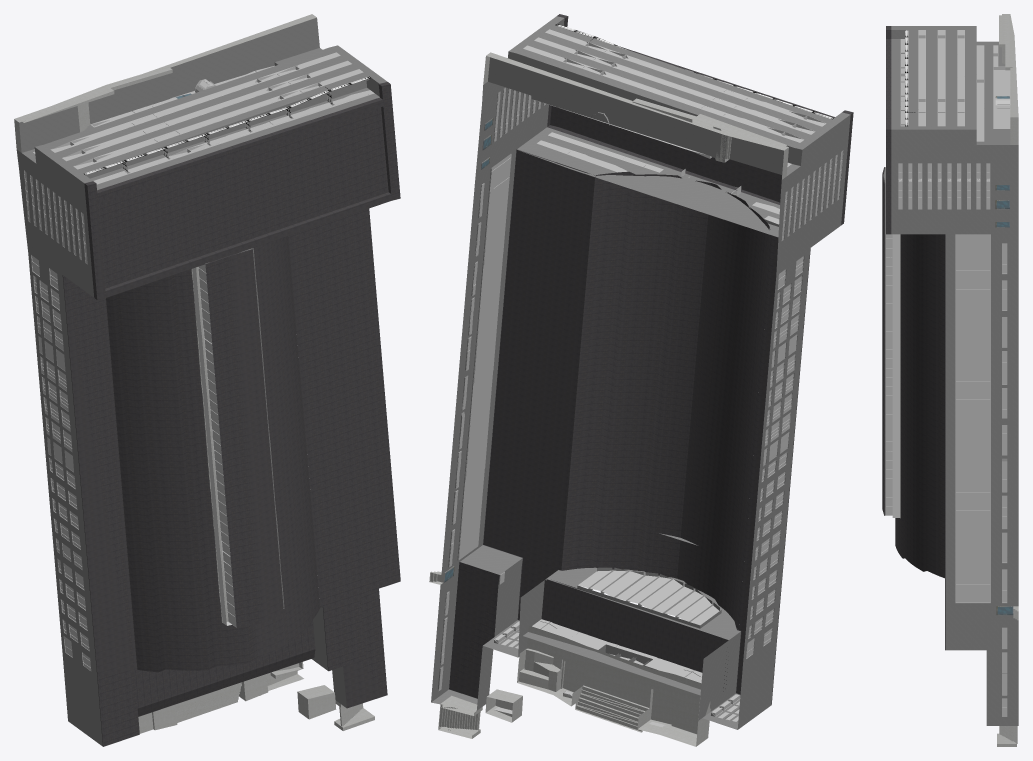
The model's file is Aia_18-origo.obj.
3 renders of one model, left to right at view 1: azimuth 30°, elevation 25°; view 2: azimuth 150°, elevation 25°; view 3: azimuth 270°, elevation 25°, orthographic. The views are drawn at different scales.
Parts seen in each view (by area): view 1: Aia_18; view 2: Aia_18; view 3: Aia_18.
Part boxes in pixels (left/top/right/bottom): Aia_18: left=14, top=14, right=400, bottom=746; Aia_18: left=429, top=14, right=853, bottom=746; Aia_18: left=882, top=14, right=1018, bottom=746.
Bounding box in the file's own units: 54.94 × 104 × 20.92.
